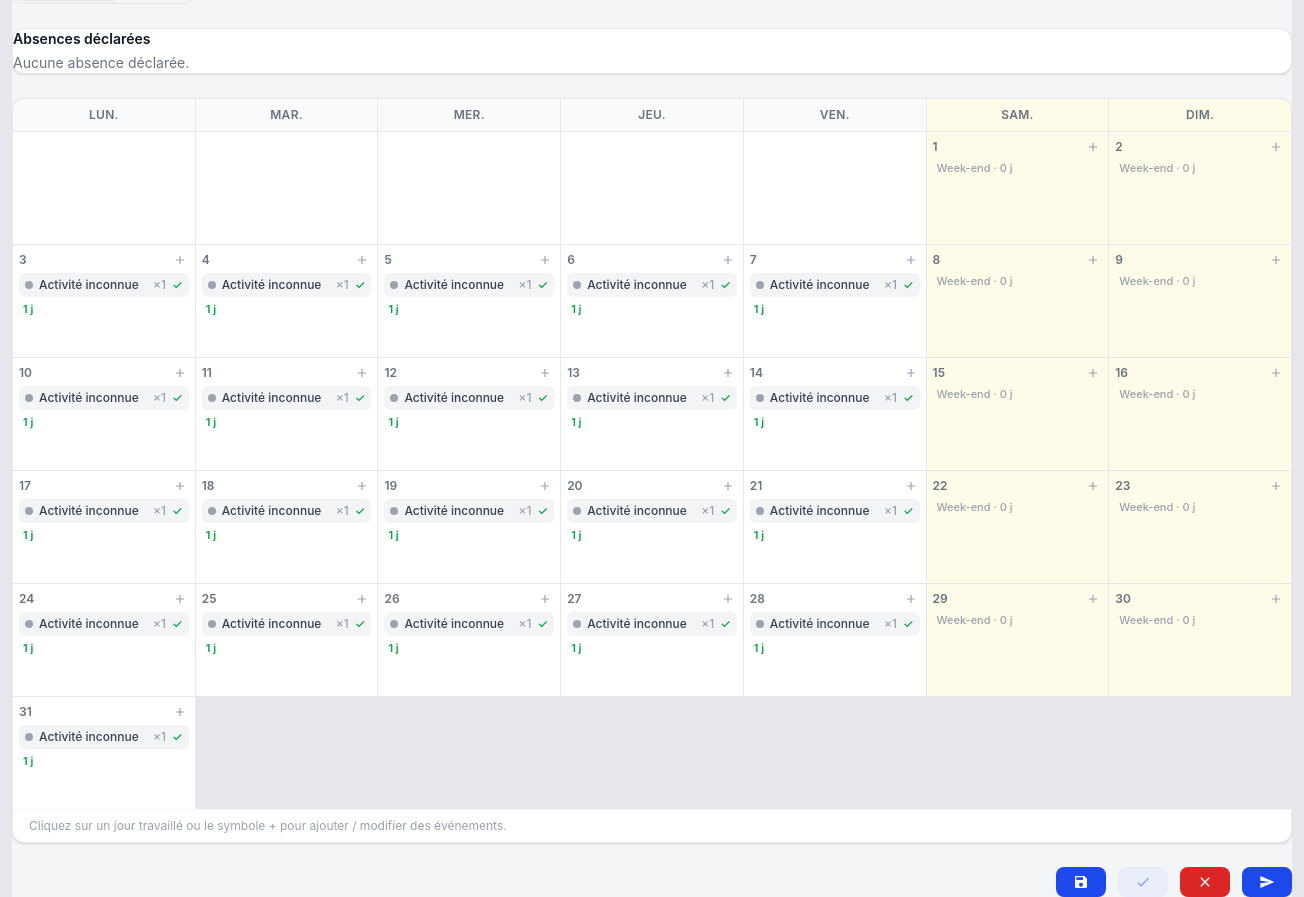
Test: CraDetail › bascule Valider tout / Invalider tout sur un CRA validé
(page scrolled)
Check: the button named "Valider tout" is disabled, box x1=1118 y1=867 x2=1168 y2=896
Click the button named "Invalider tout" at (1205, 882), box x1=1180 y1=867 x2=1230 y2=896
(page scrolled)
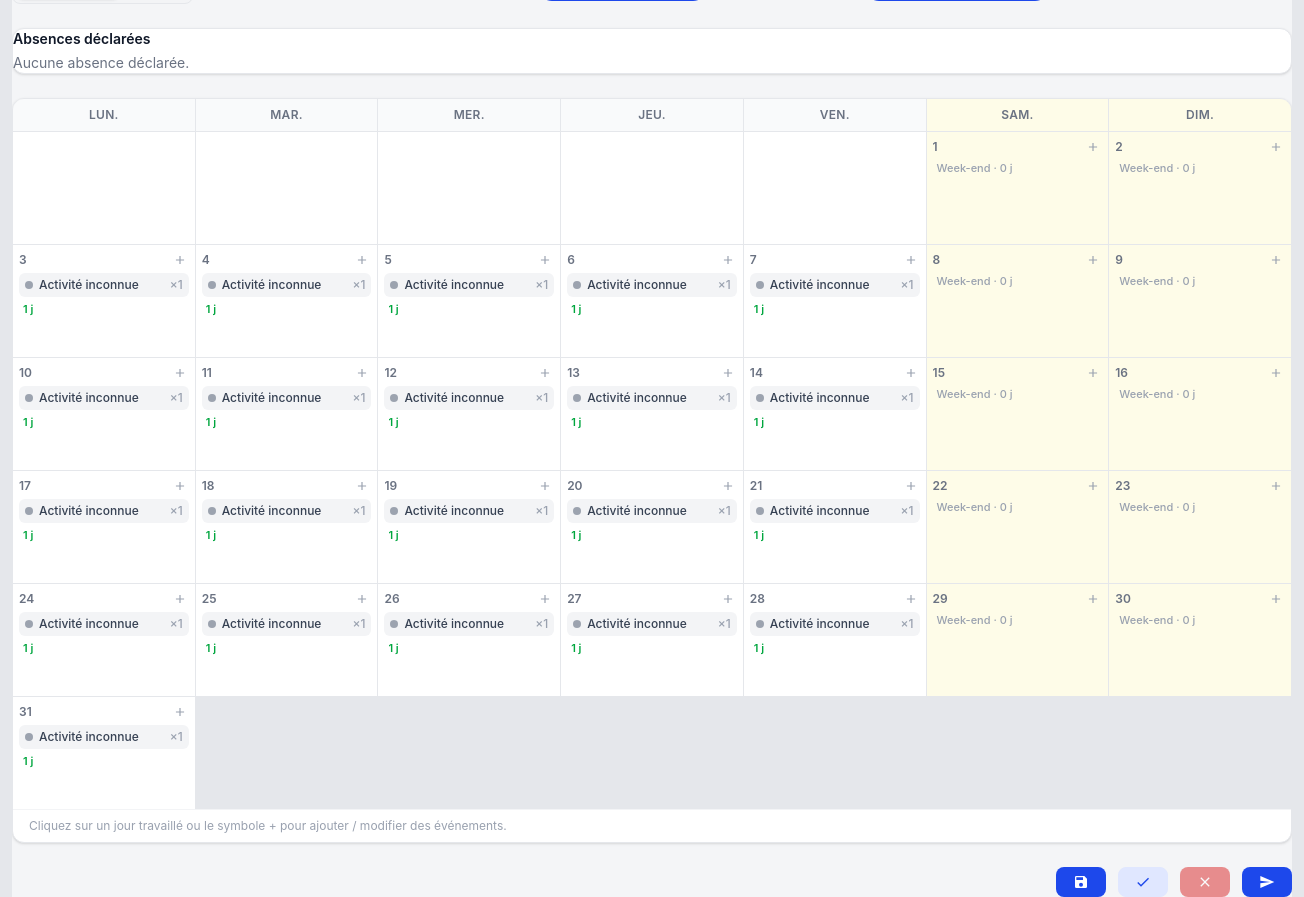
Check: the button named "Valider tout" is enabled
Check: the button named "Invalider tout" is disabled, box x1=1180 y1=867 x2=1230 y2=896
Click the button named "Valider tout" at (1143, 882), box x1=1118 y1=867 x2=1168 y2=896
(page scrolled)
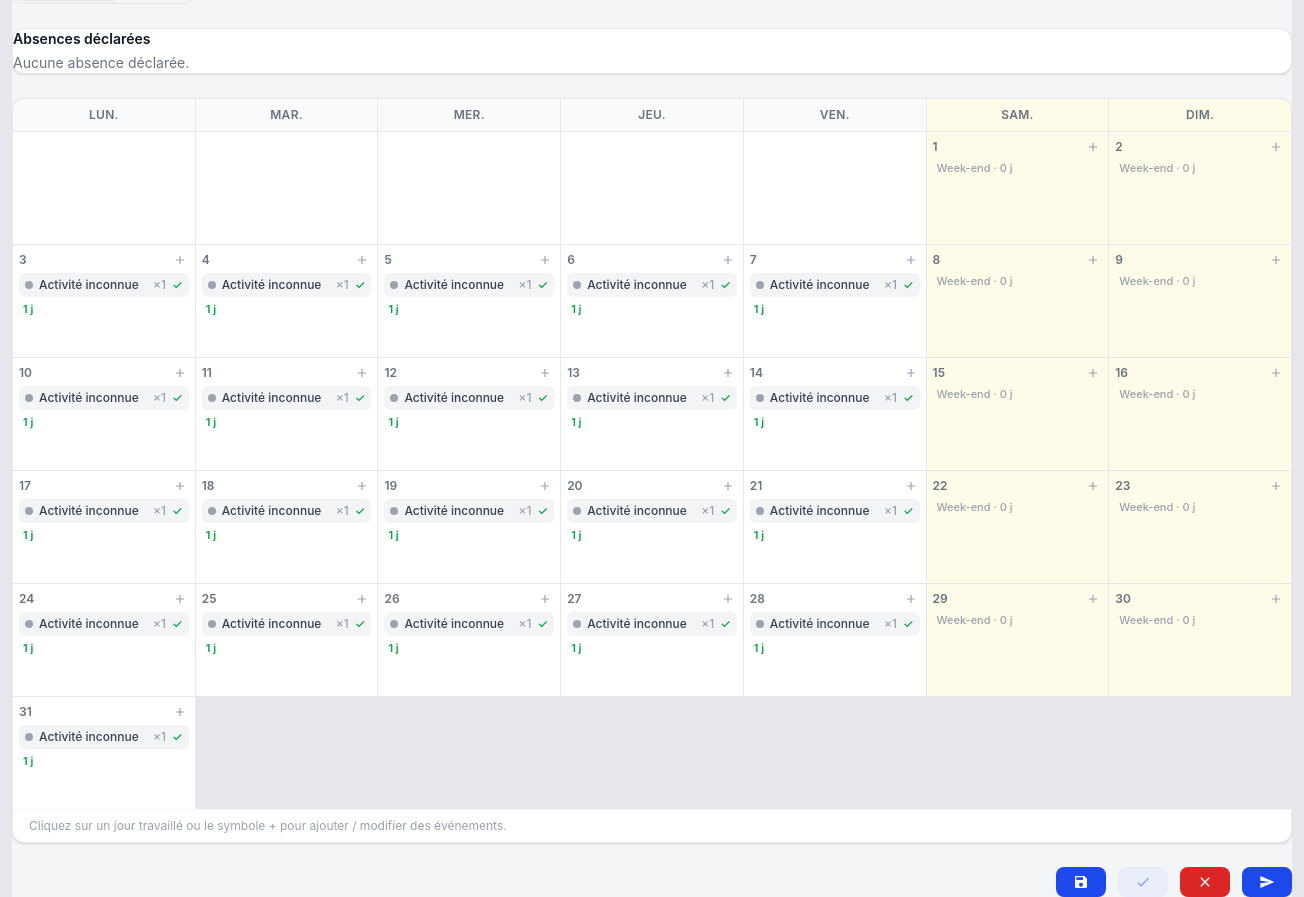
Check: the button named "Valider tout" is disabled, box x1=1118 y1=867 x2=1168 y2=896
Check: the button named "Invalider tout" is enabled, box x1=1180 y1=867 x2=1230 y2=896
